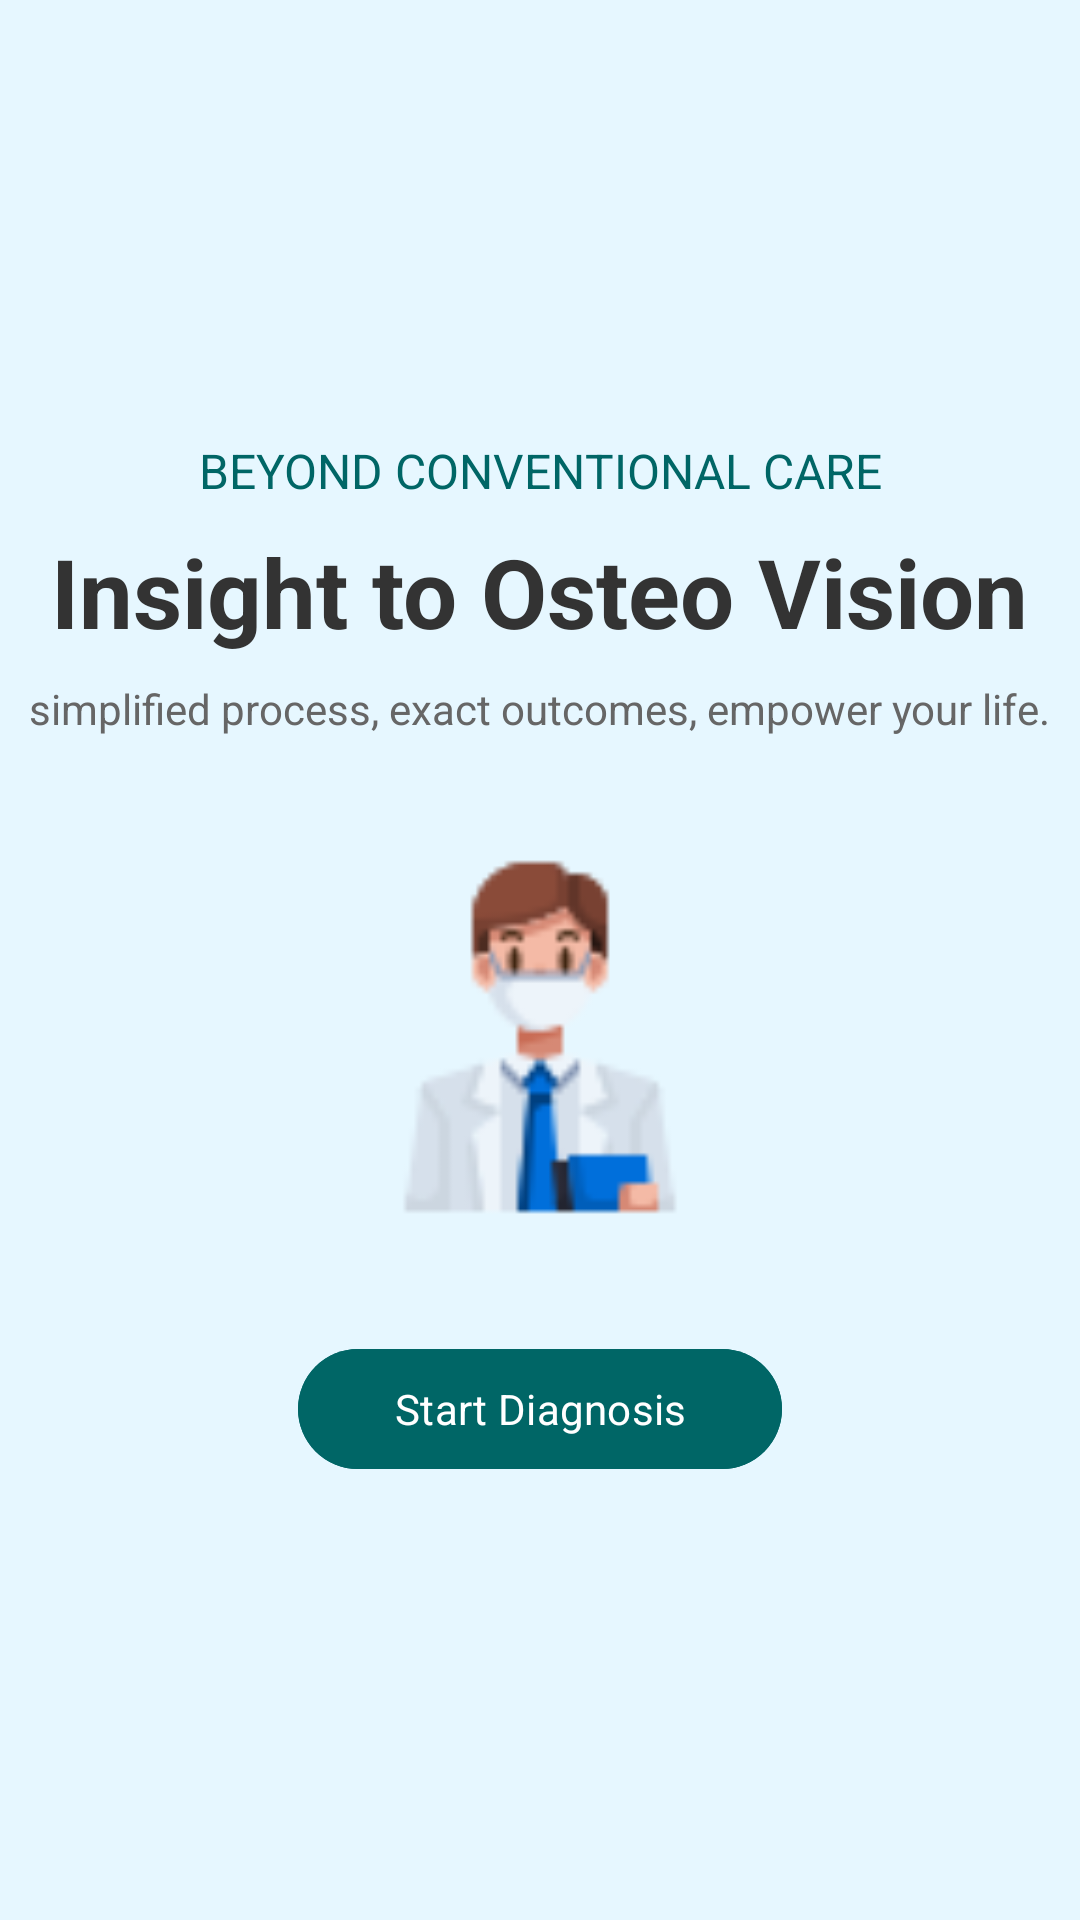

Screen size 1080px×1920px. Icon name, then its center in pixels as point (x, y):
doctor: point (540, 1037)
